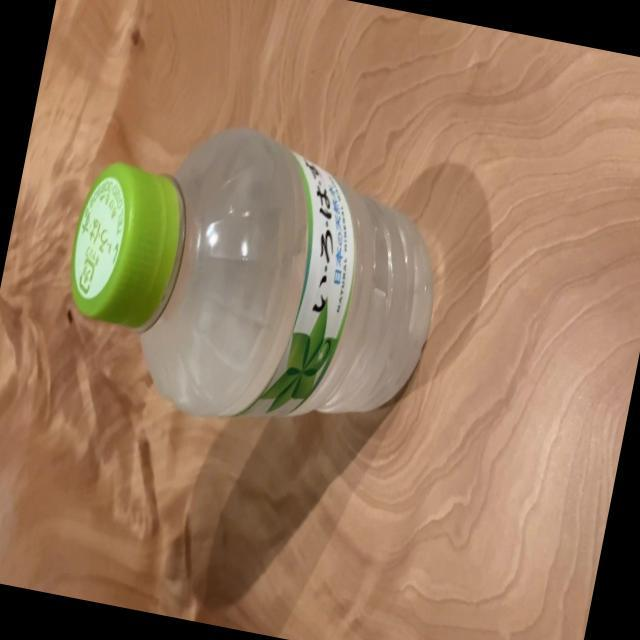good: (44, 102, 462, 461)
